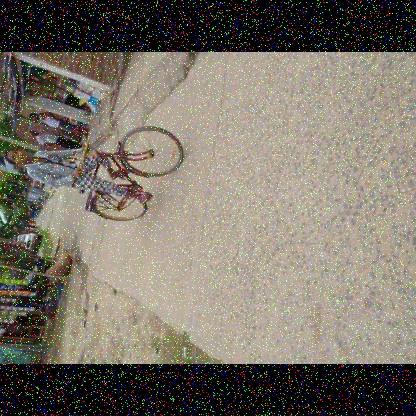Bicycle: (69, 108, 200, 235)
